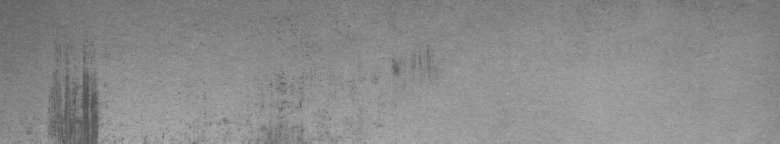ka: (44, 57, 104, 136)
